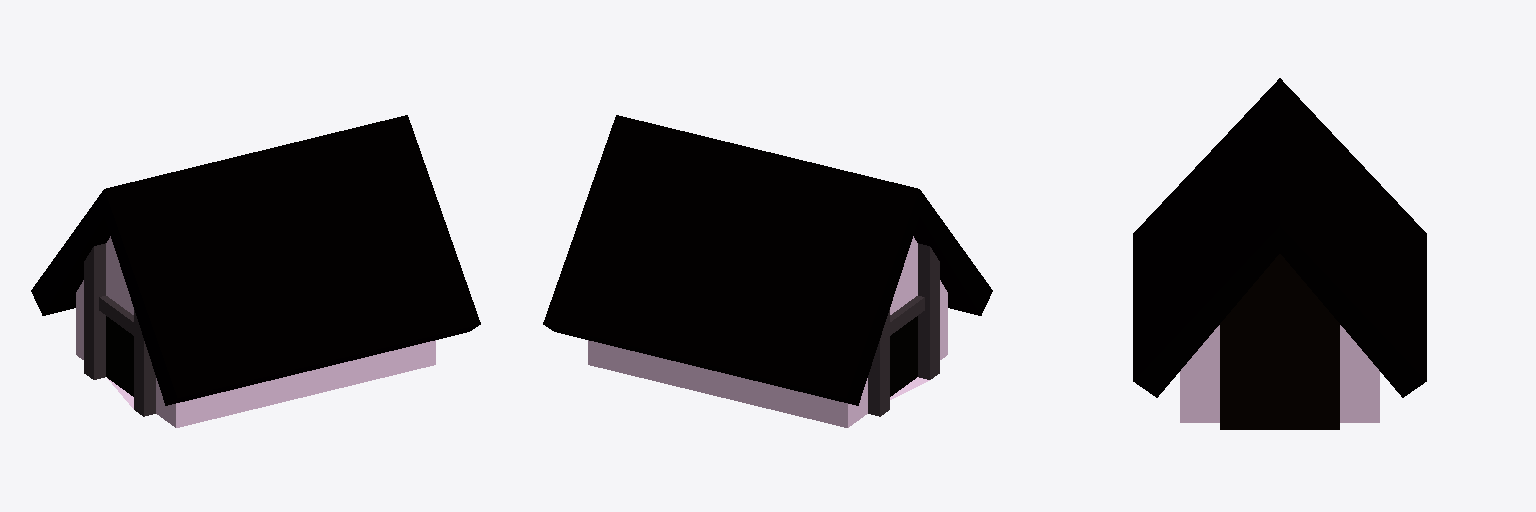
File: house1A(F30).obj
3 views of the same model, side by side, from view 1: azimuth 30°, elevation 25°; view 2: azimuth 150°, elevation 25°; view 3: azimuth 270°, elevation 25° (orthographic).
Visible parts, largest first — view 1: Cube.007; view 2: Cube.007; view 3: Cube.007.
Boxes of the visible parts, x1=… form: Cube.007: x1=31, y1=115, x2=480, y2=427; Cube.007: x1=543, y1=115, x2=992, y2=427; Cube.007: x1=1133, y1=78, x2=1426, y2=429.
Bounding box in the file's own units: 3.51 × 2.3 × 2.94.